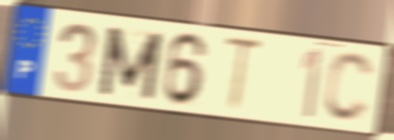1: (299, 46, 325, 122)
3: (52, 21, 98, 94)
6: (161, 30, 208, 109)
C: (321, 50, 377, 126)
M: (95, 24, 166, 103)
T: (221, 34, 267, 116)
